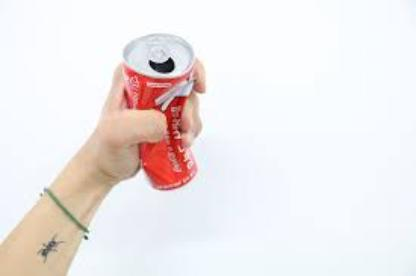Can: (121, 34, 201, 192)
